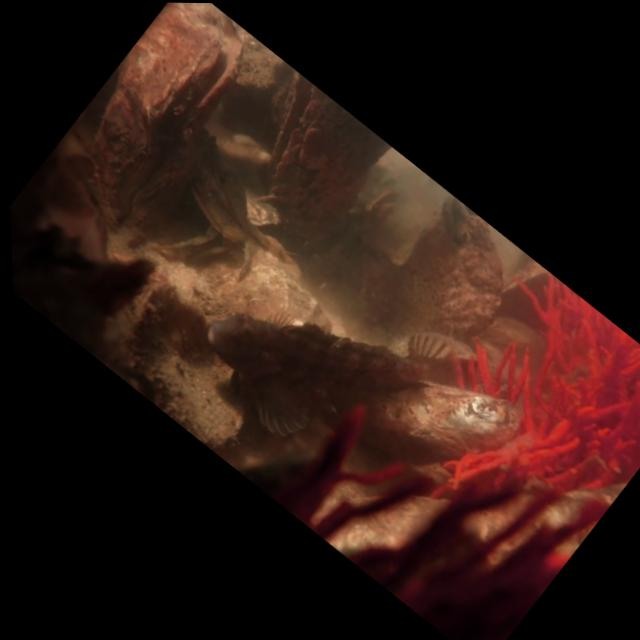Oyster-Indeterminate: (331, 371, 523, 470), (400, 192, 509, 340)
Oyster-Open: (97, 3, 248, 228), (262, 71, 392, 243)
